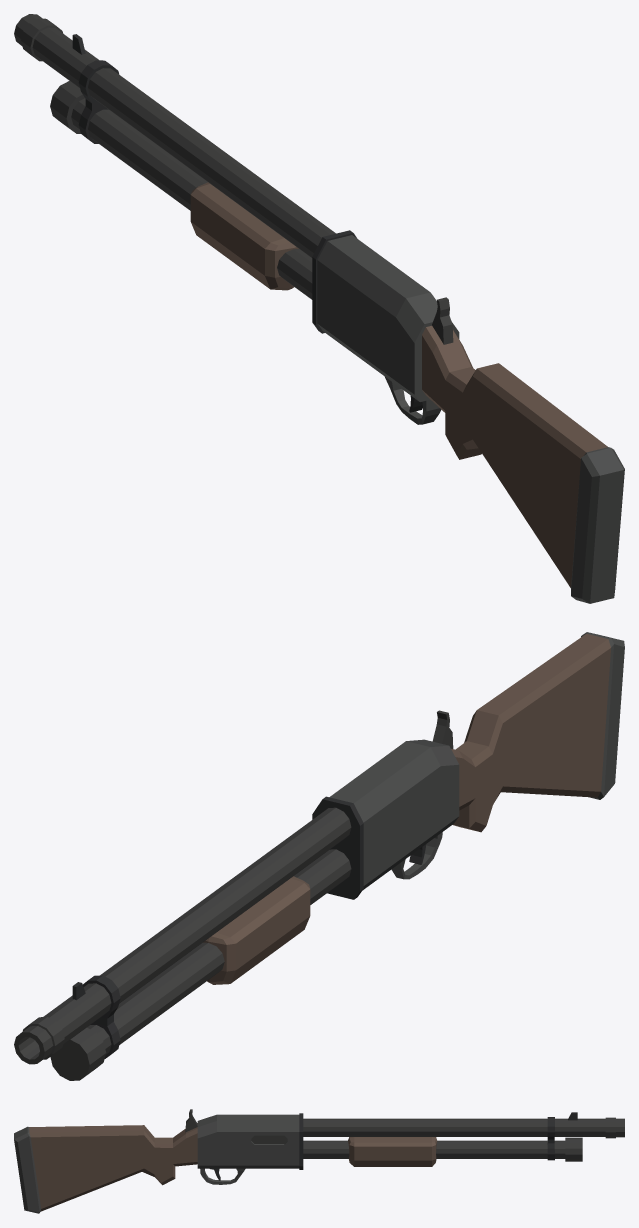
File: shotgun.glb
3 views of the same model, one above another, from view 1: azimuth 30°, elevation 25°; view 2: azimuth 150°, elevation 25°; view 3: azimuth 270°, elevation 25° (orthographic). The views are drawn at different scales.
Parts seen in each view (by area): view 1: shotgun; view 2: shotgun; view 3: shotgun.
Boxes of the visible parts, x1,y1,x2,y2 form: shotgun: (14,14,624,603); shotgun: (14,632,624,1080); shotgun: (14,1109,624,1213).
Bounding box in the file's own units: 0.0499 × 0.191 × 1.05.
